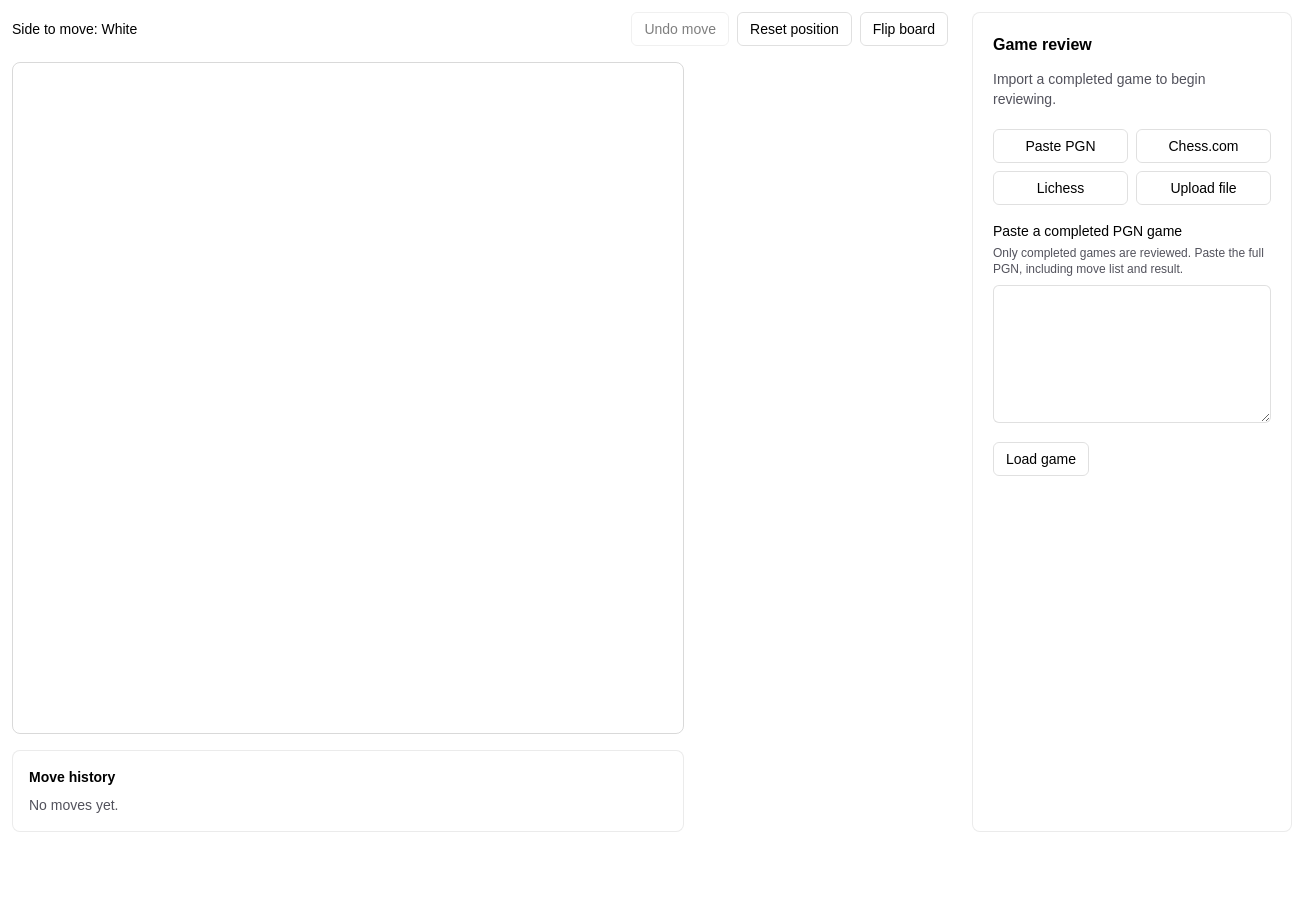
Test: ReviewWorkspace › shows the sanitized parsing failure for malformed PGN
This screenshot has width=1292, height=912.
Type "this is not valid pgn" into the text box labelled "Paste a completed PGN game" at {"x": 1132, "y": 354}, box left=993, top=285, right=1271, bottom=423
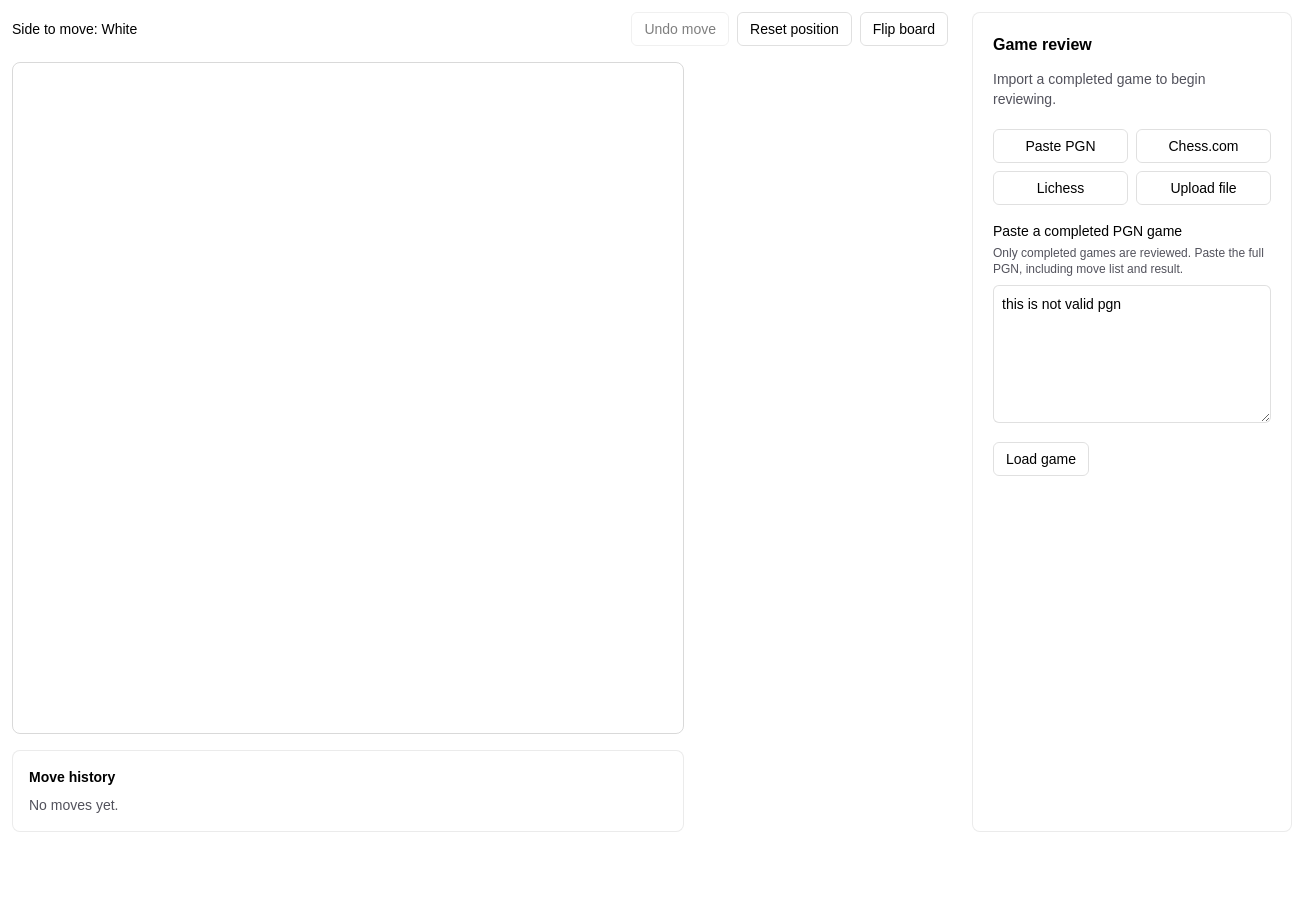
Click the button "Load game" at {"x": 1041, "y": 459}, box left=993, top=442, right=1089, bottom=476
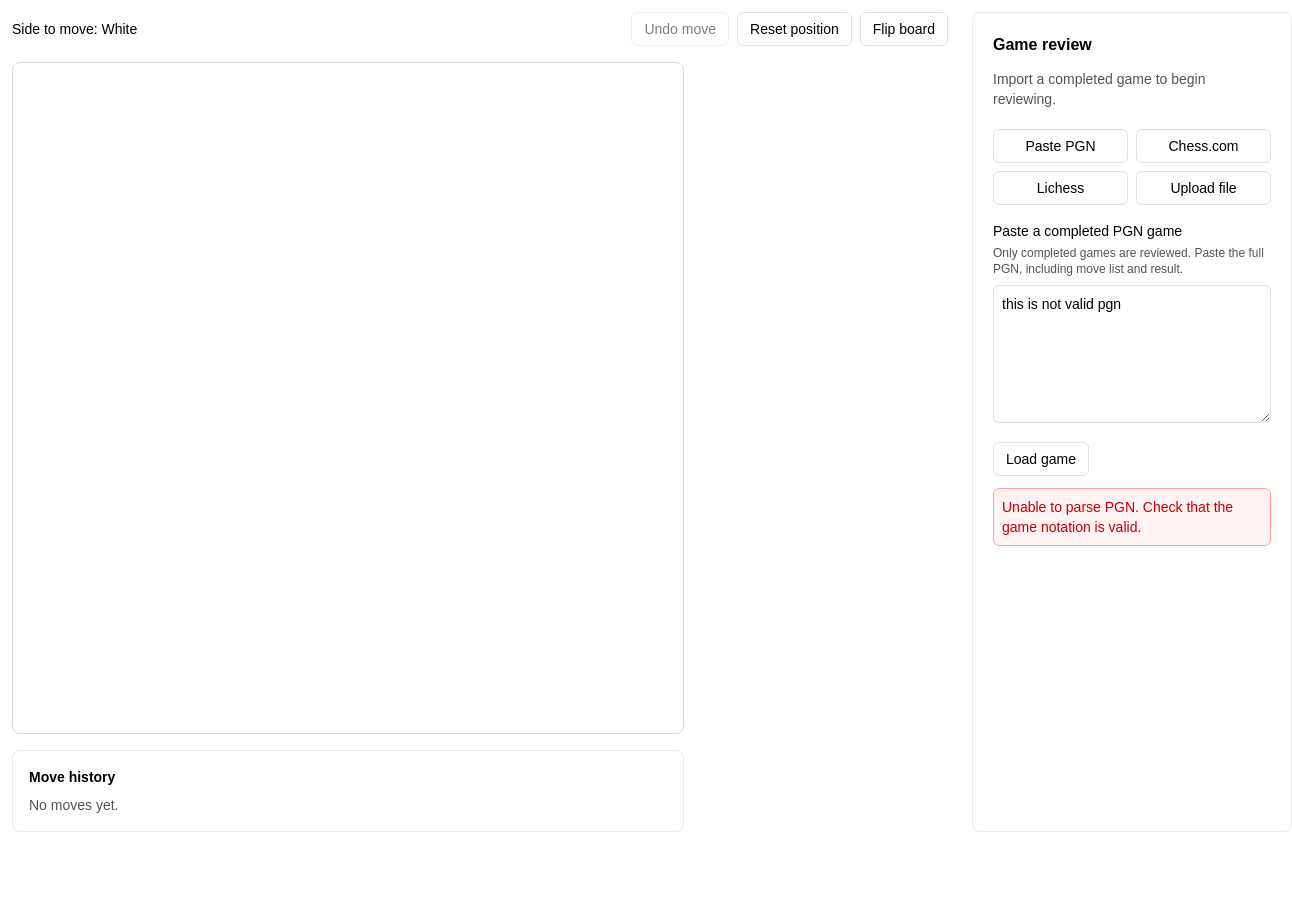
Expected: the message reads "Unable to parse PGN. Check that the game notation is valid.", left=1002, top=499, right=1233, bottom=535
